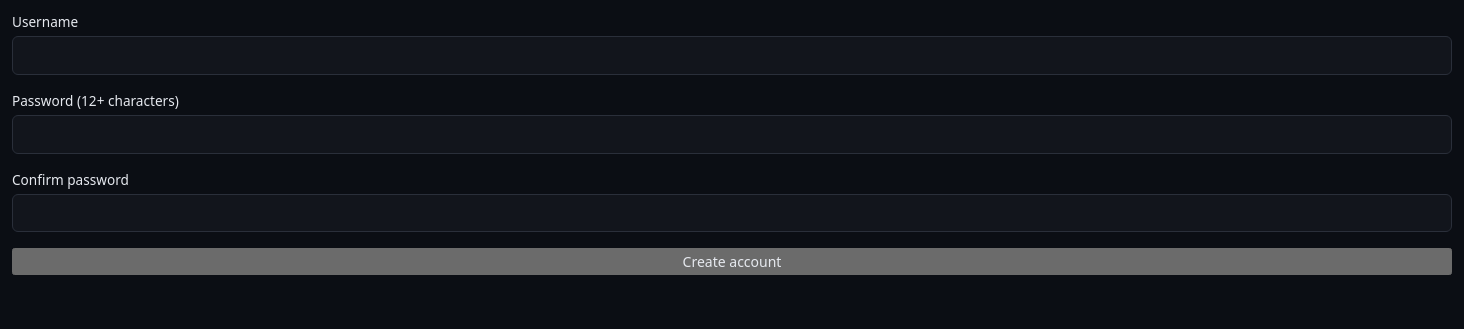
Test: InviteRedemptionForm (G12) › field-level problems (taken username) stay on the form with the server message
Type "new-user" into the field labelled "Username" at (732, 56), box [12, 36, 1452, 75]
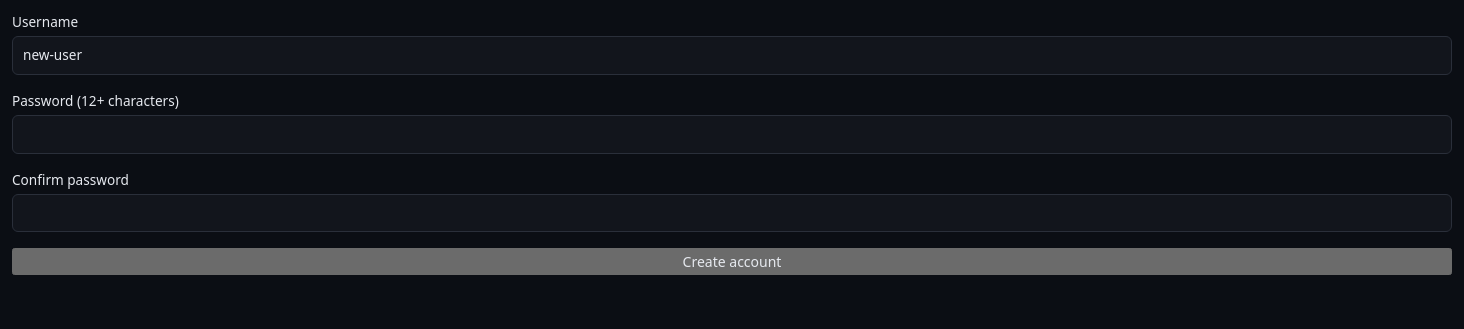
Type "a-long-password-12" into the password field labelled "Password (12+ characters)" at (732, 134), box [12, 115, 1452, 154]
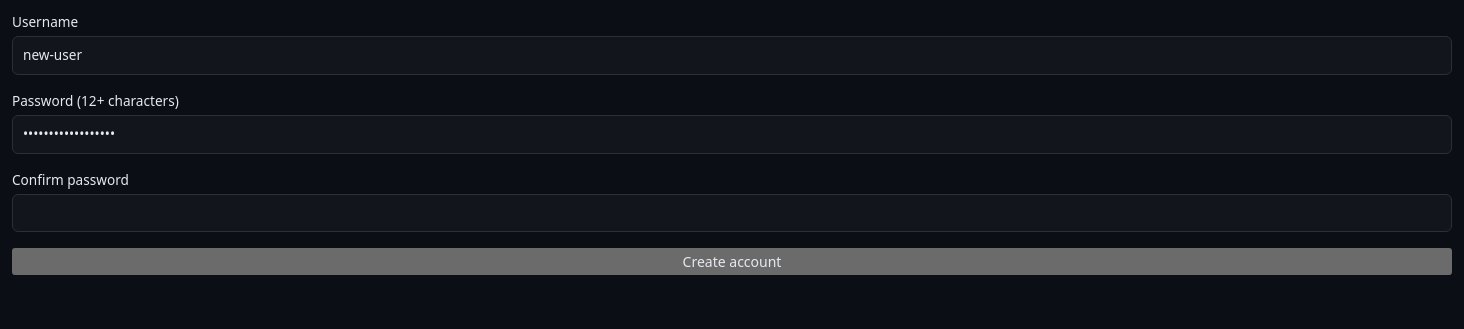
Type "a-long-password-12" into the password field labelled "Confirm password" at (732, 213), box [12, 194, 1452, 232]
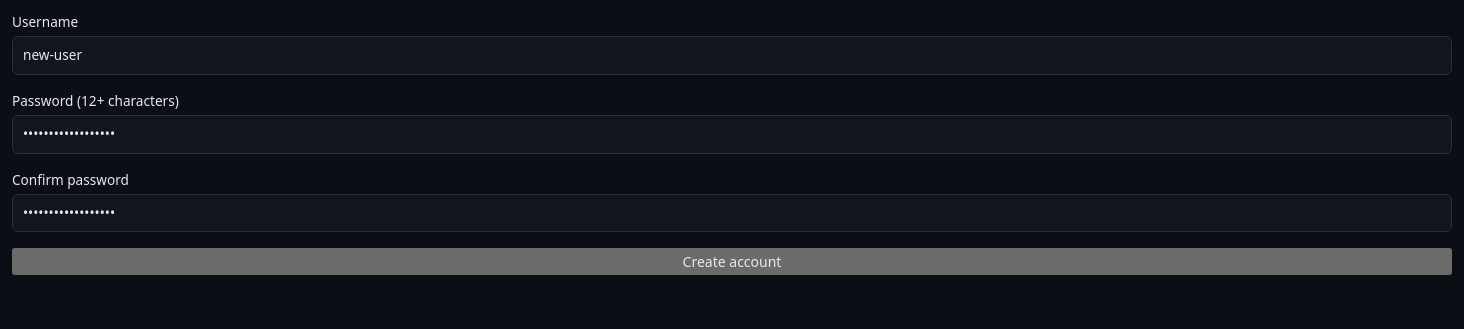
Click the button "Create account" at (732, 262), box [12, 248, 1452, 275]
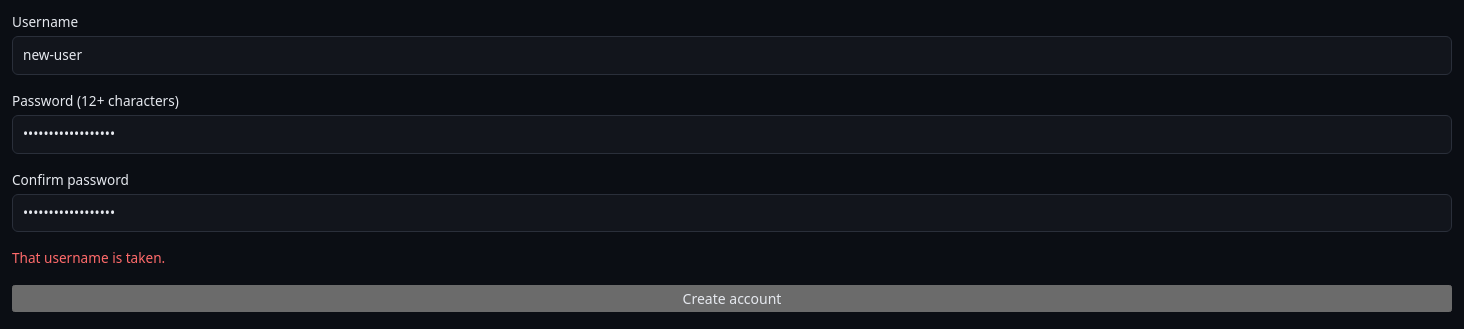
Check: the button "Create account" is shown, box [12, 285, 1452, 312]
Check: the message reads "That username is taken.", box [12, 248, 165, 267]
